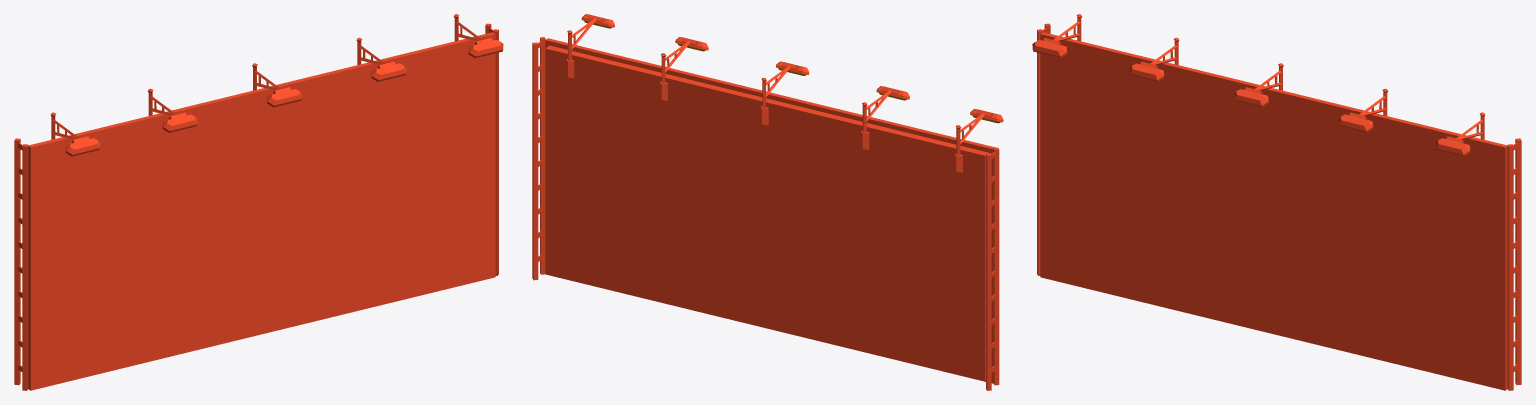
The model's file is SM_Billboard_Drop_City.fbx.
The picture shows the model from 3 angles, left to right: view 1: azimuth 30°, elevation 25°; view 2: azimuth 150°, elevation 25°; view 3: azimuth 330°, elevation 25°; orthographic projection. The views are drawn at different scales.
Visible parts, largest first — view 1: SM_Billboard_Drop_City; view 2: SM_Billboard_Drop_City; view 3: SM_Billboard_Drop_City.
Boxes of the visible parts, x1,y1,x2,y2 form: SM_Billboard_Drop_City: (14,14,503,390); SM_Billboard_Drop_City: (532,14,1003,390); SM_Billboard_Drop_City: (1032,14,1521,390).
Size of the model in its own units: 5.13 by 2.72 by 0.6856.
